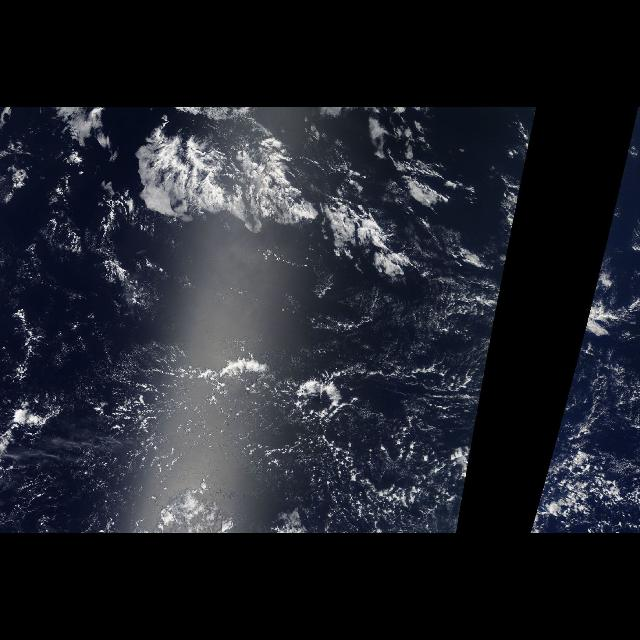Flower: (122, 122, 468, 318)
Gravel: (72, 338, 476, 518), (532, 422, 640, 528)
